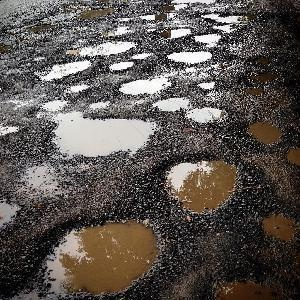pothole: (31, 213, 162, 296), (43, 111, 160, 160), (161, 153, 239, 212), (190, 263, 289, 299), (251, 202, 298, 243), (65, 37, 139, 57), (242, 116, 284, 146), (36, 57, 94, 78), (198, 8, 252, 29), (115, 73, 172, 92), (183, 105, 229, 125), (0, 197, 24, 229), (165, 46, 211, 62), (149, 95, 190, 111), (156, 26, 196, 38), (193, 31, 223, 42), (107, 59, 132, 70), (283, 145, 298, 163), (196, 78, 215, 89)
